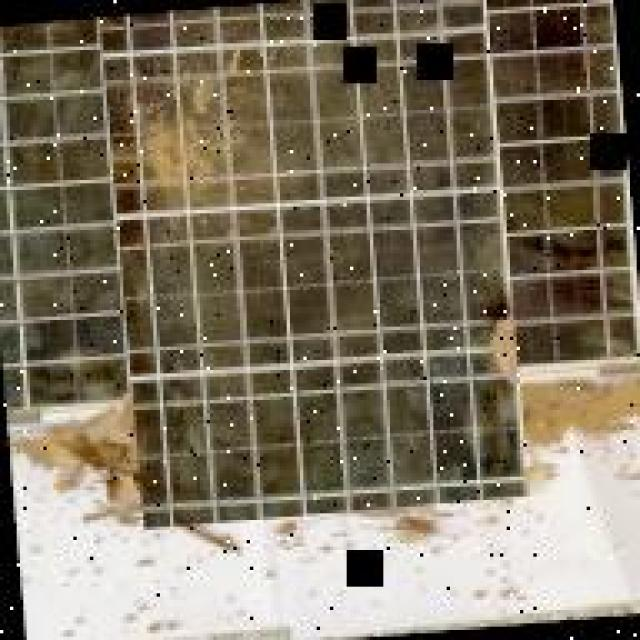dust-solar-panel: (0, 0, 635, 524)
